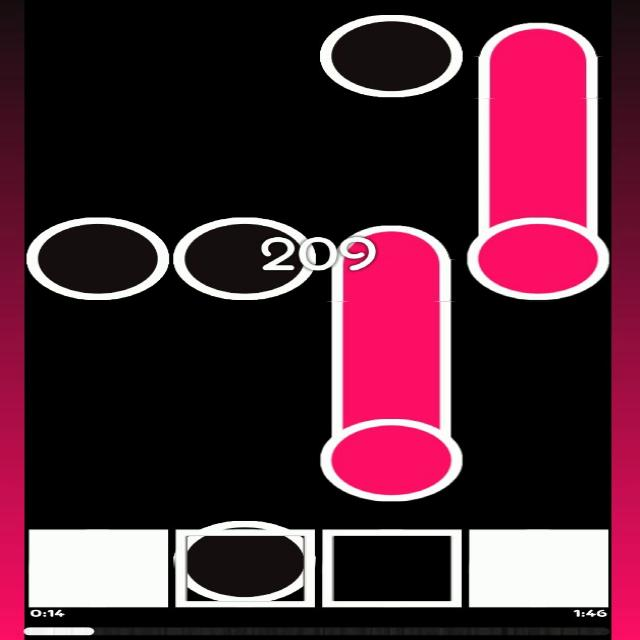end_hold: (472, 14, 607, 58), (332, 218, 453, 265)
note: (317, 14, 463, 99), (25, 217, 170, 300), (172, 219, 314, 300), (178, 519, 312, 601)
start_hold: (321, 399, 462, 502), (466, 202, 610, 299)
